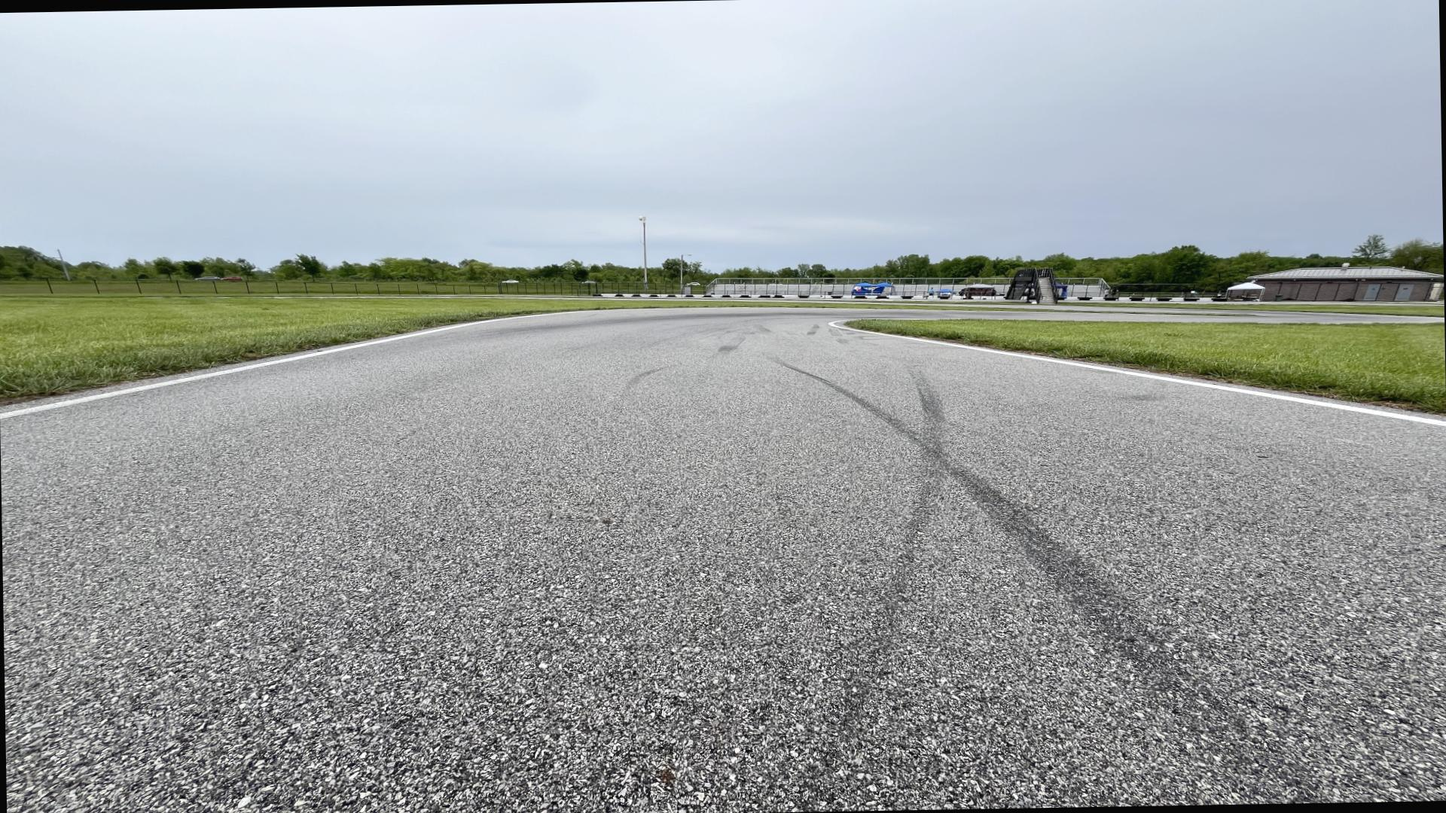white-line: (0, 307, 1206, 421), (827, 320, 1445, 428), (893, 318, 937, 321)
